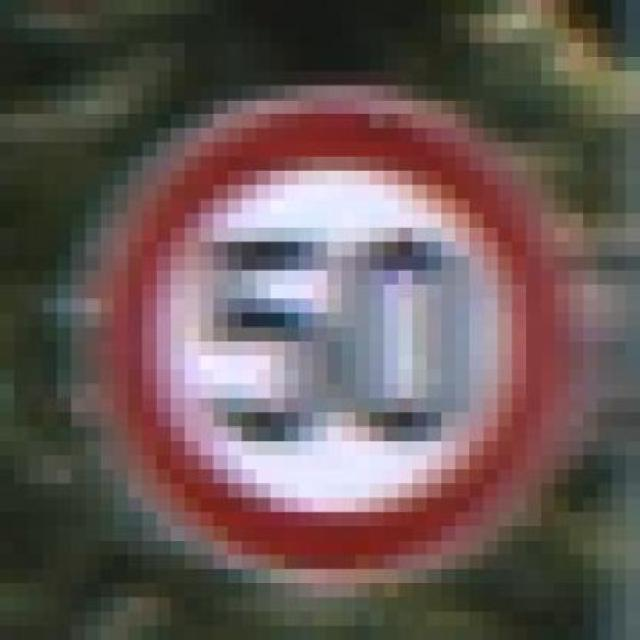forb_speed_over_50: (107, 110, 551, 564)
